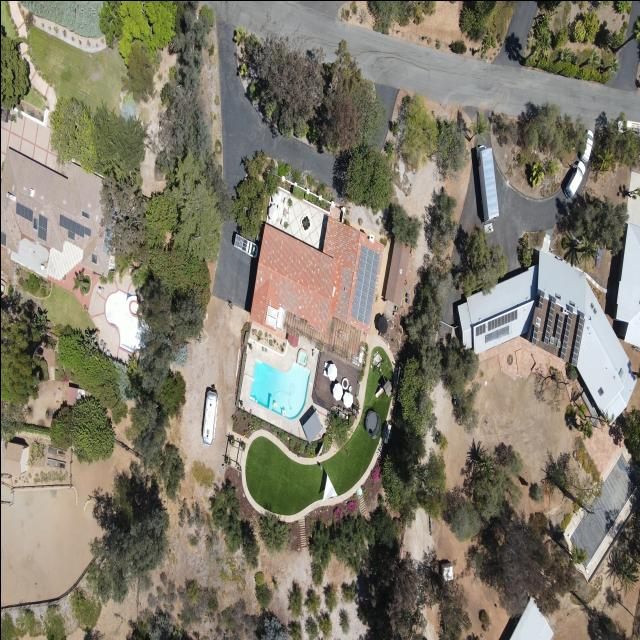solar-panels: (348, 244, 380, 326), (51, 213, 92, 245), (483, 308, 520, 331), (559, 304, 573, 360), (570, 311, 584, 365), (543, 295, 556, 344), (10, 200, 37, 222), (37, 213, 47, 241), (554, 313, 563, 340), (471, 322, 488, 336), (531, 324, 538, 344), (537, 289, 544, 309), (0, 231, 5, 246)
